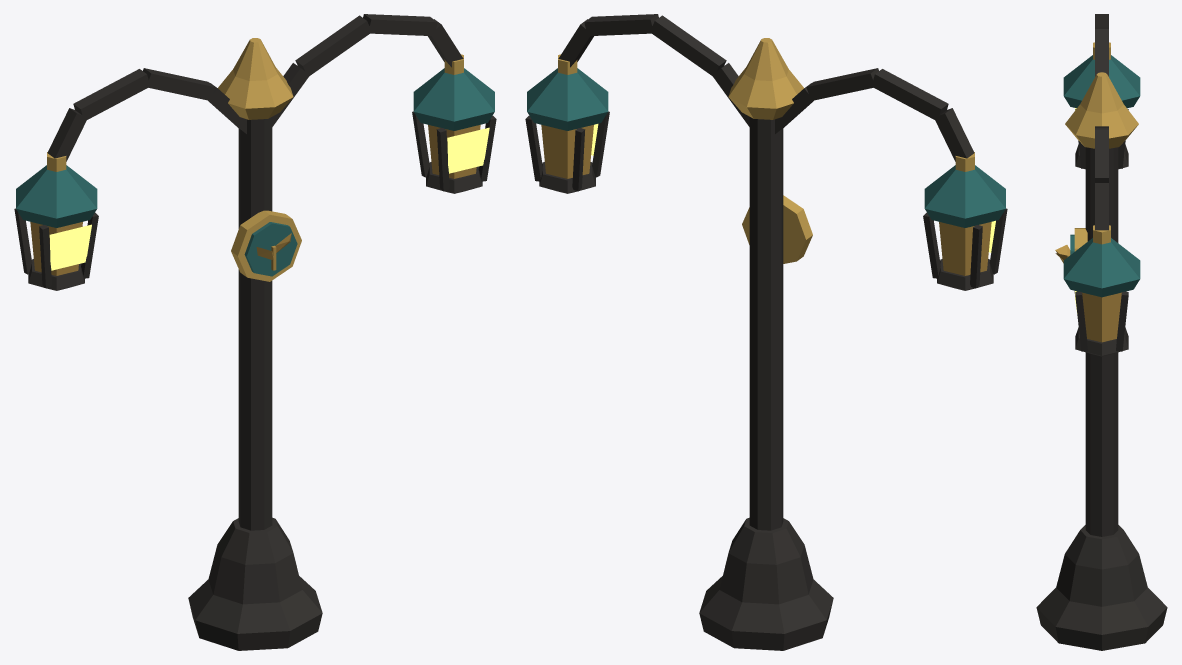
The model's file is lamp-post.glb.
The picture shows the model from 3 angles, left to right: view 1: azimuth 30°, elevation 25°; view 2: azimuth 150°, elevation 25°; view 3: azimuth 270°, elevation 25°; orthographic projection. The views are drawn at different scales.
Parts seen in each view (by area): view 1: lamp-post; view 2: lamp-post; view 3: lamp-post.
Boxes of the visible parts, x1,y1,x2,y2 form: lamp-post: [14, 14, 496, 650]; lamp-post: [525, 14, 1007, 650]; lamp-post: [1036, 14, 1167, 650].
Bounding box in the file's own units: 2.38 × 2.78 × 0.6.
